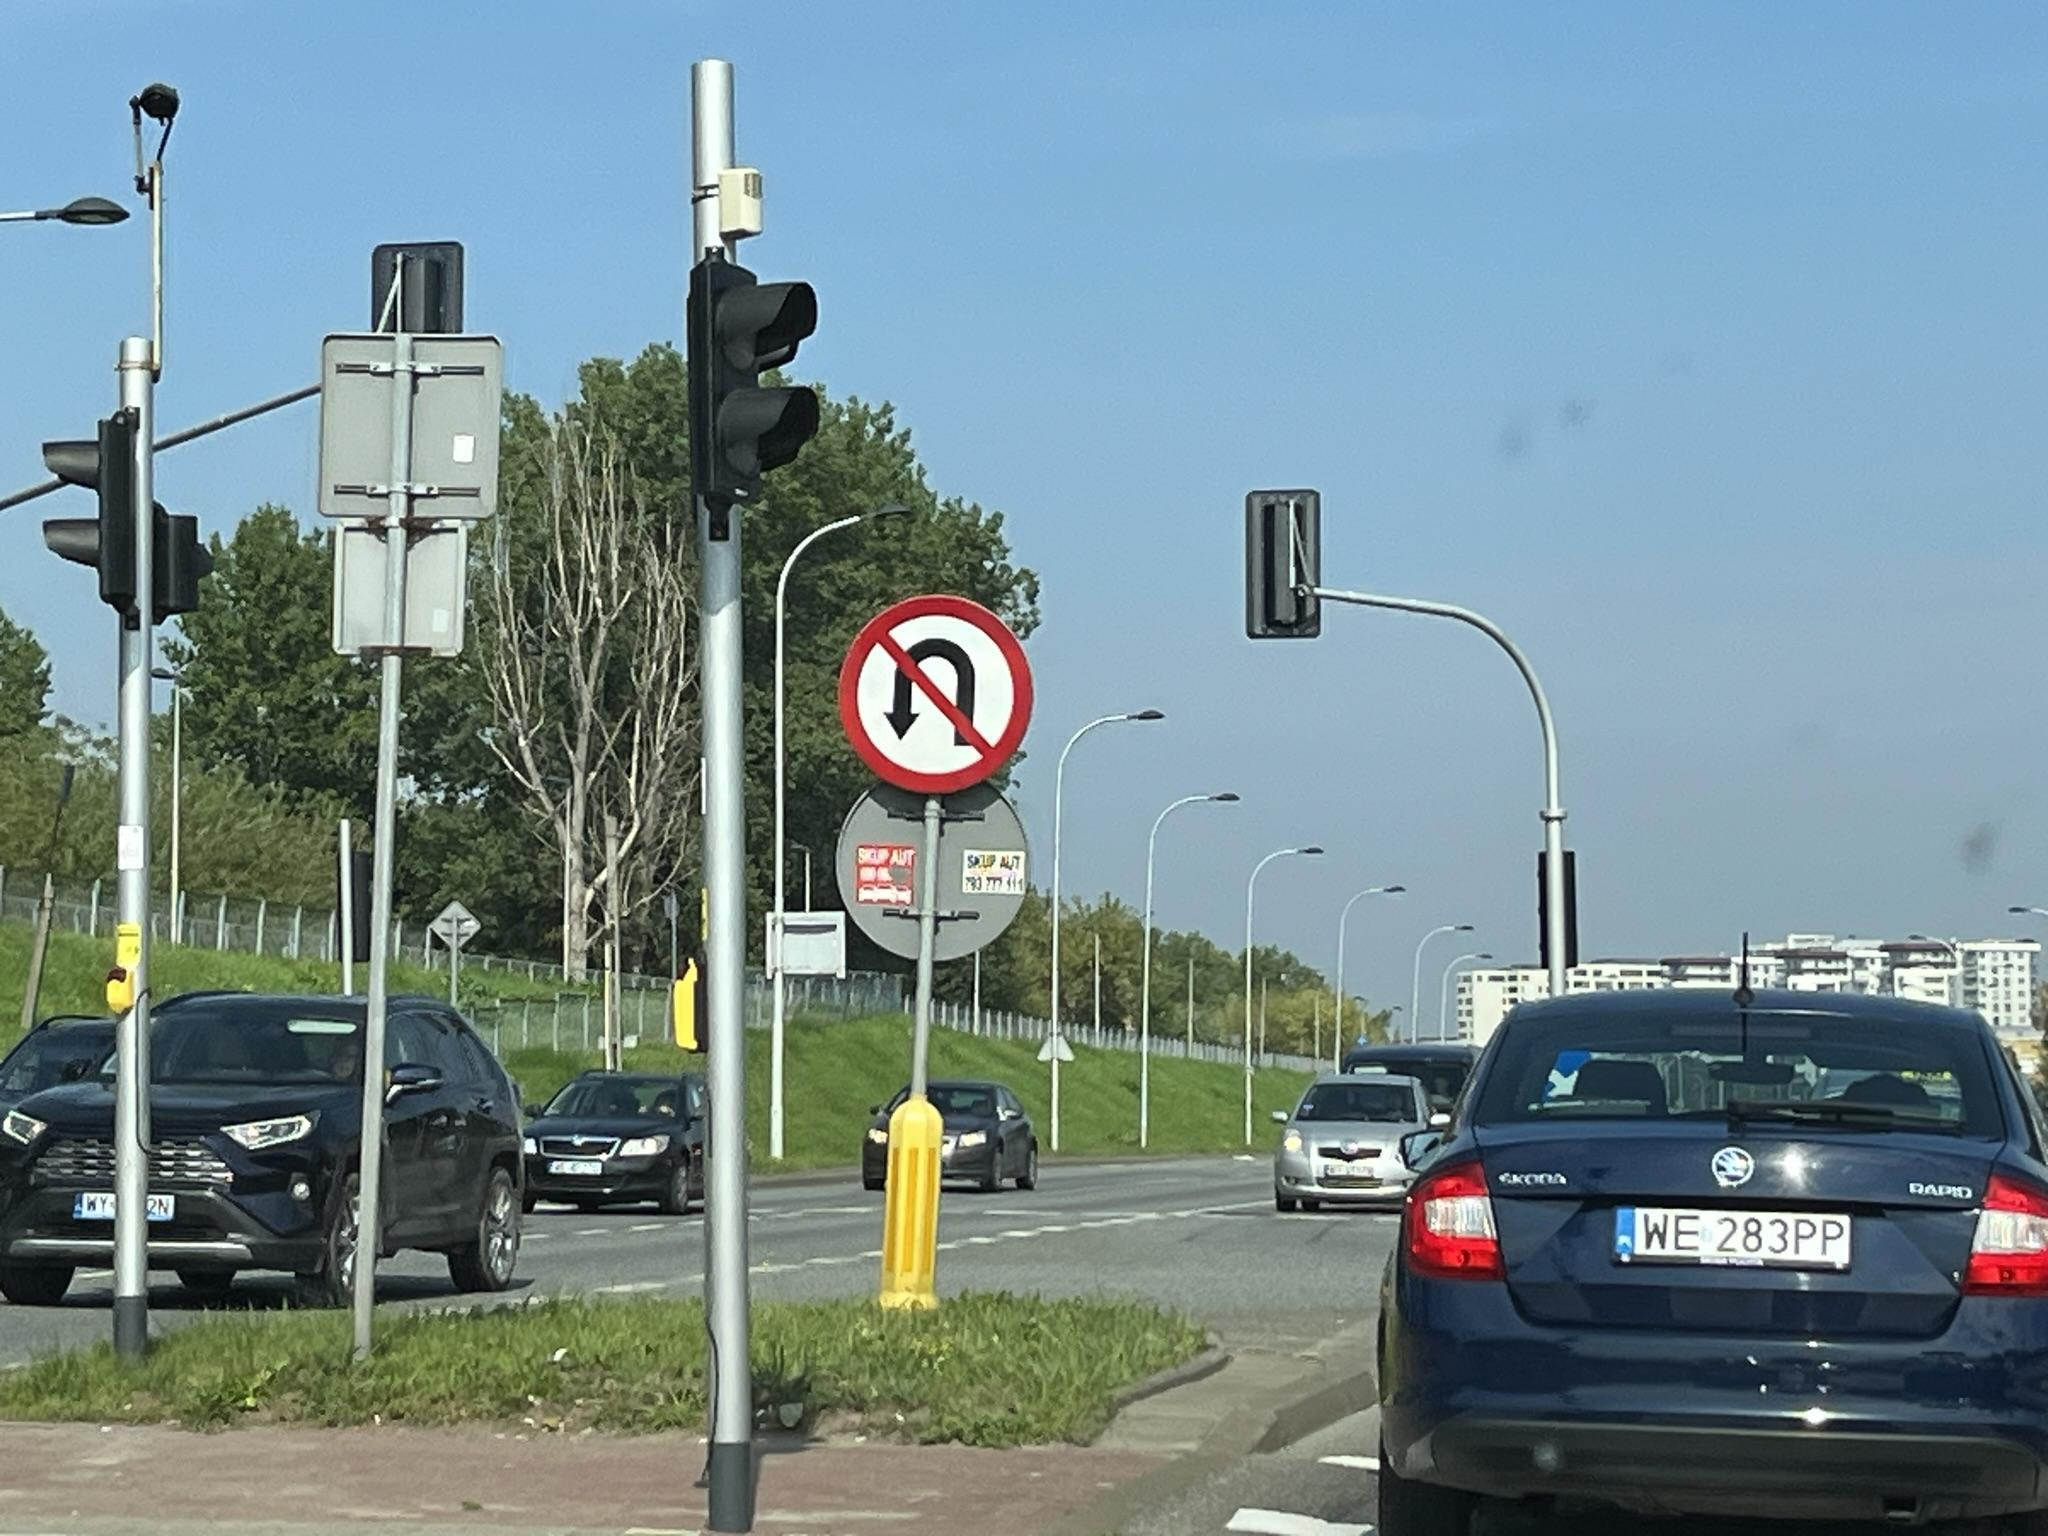prohibitory: (835, 591, 1034, 799)
